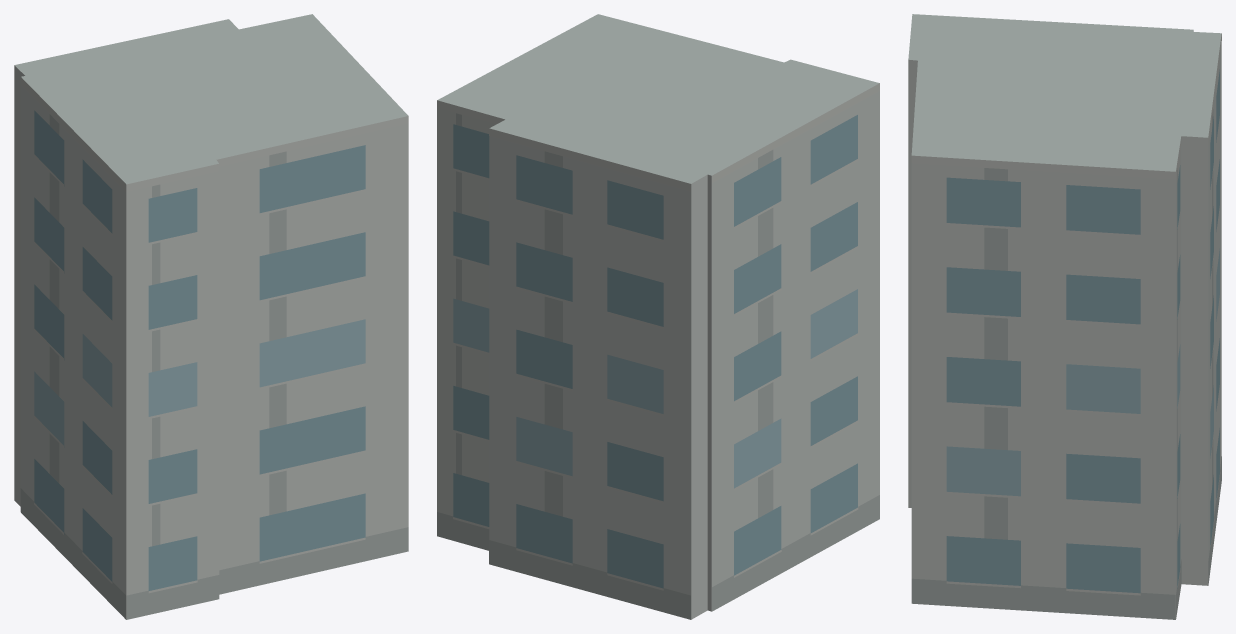
Rendered from survey-upis-32683782.glb.
3 views of the same model, side by side, from view 1: azimuth 30°, elevation 25°; view 2: azimuth 150°, elevation 25°; view 3: azimuth 270°, elevation 25° (orthographic). The views are drawn at different scales.
Parts seen in each view (by area): view 1: survey-upis-32683782.tmp; view 2: survey-upis-32683782.tmp; view 3: survey-upis-32683782.tmp.
Boxes of the visible parts, x1=… form: survey-upis-32683782.tmp: x1=14, y1=14, x2=408, y2=619; survey-upis-32683782.tmp: x1=437, y1=14, x2=879, y2=619; survey-upis-32683782.tmp: x1=908, y1=14, x2=1221, y2=619.
Size of the model in its own units: 10.51 by 13.9 by 8.82.
